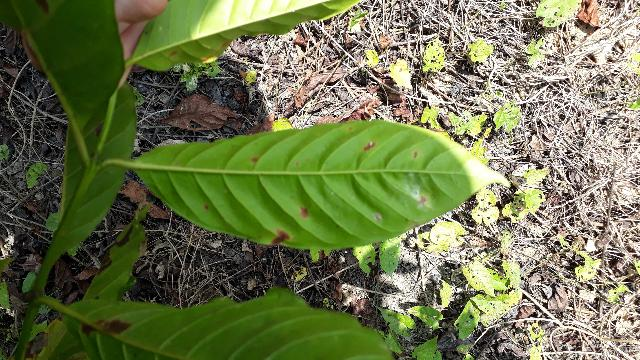rust_level_1: (134, 108, 505, 237)
